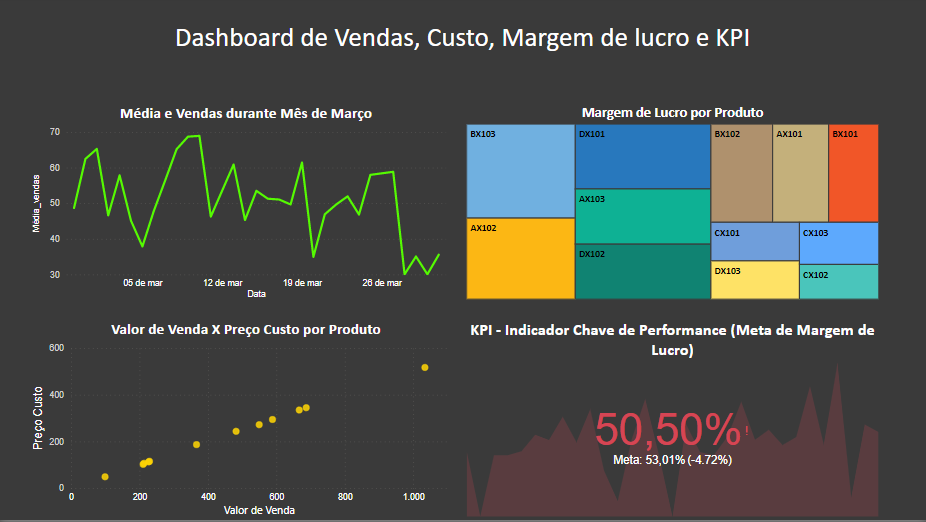

Layout of this report page (visuals, bound fields, positions):
{"tool":"powerbi","page":{"name":"Página 2","canvas":[1280,720],"ordinal":1},"visuals":[{"type":"lineChart","title":"Média e Vendas durante  Mês de Março","fields":{"Category":["Custos.Data"],"Y":["Custos.Média_vendas"]},"box":[42.7,145.9,587.7,275.3],"z":0},{"type":"treemap","title":"Margem de Lucro por Produto","fields":{"Group":["Custos.Produto"],"Values":["Sum(Custos.Margem_Lucro)"]},"box":[684,145.9,524.4,275.3],"z":1000},{"type":"scatterChart","title":"Valor de Venda X Preço Custo por Produto","fields":{"Category":["Custos.Produto"],"X":["Sum(Custos.Valor de Venda)"],"Y":["Sum(Custos.Preço Custo)"]},"box":[42.7,443.2,587.7,276.6],"z":2000},{"type":"kpi","title":"KPI - Indicador Chave de Performance (Meta de Margem de Lucro) ","fields":{"Goal":["Max(Custos.Margem_Lucro)"],"Indicator":["Avg(Custos.Margem_Lucro)1"],"TrendLine":["Custos.Data"]},"box":[684,432.2,532.6,276.6],"z":3000},{"type":"textbox","box":[95,26.2,1088.7,84],"z":4000}]}

Visuals, with their boxes in screenshot pixels (x1, y1, x2, y2), scaled from the page's 1280x720 canvas onto the 926x522 screenshot:
"Média e Vendas durante  Mês de Março" lineChart: rect(31, 106, 456, 305)
"Margem de Lucro por Produto" treemap: rect(495, 106, 874, 305)
"Valor de Venda X Preço Custo por Produto" scatterChart: rect(31, 321, 456, 521)
"KPI - Indicador Chave de Performance (Meta de Margem de Lucro) " kpi: rect(495, 313, 880, 514)
textbox: rect(69, 19, 856, 80)
